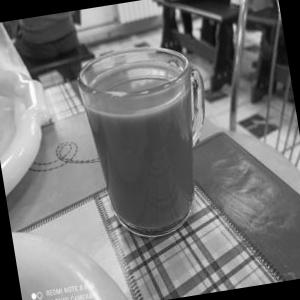coffee: (57, 23, 240, 258)
